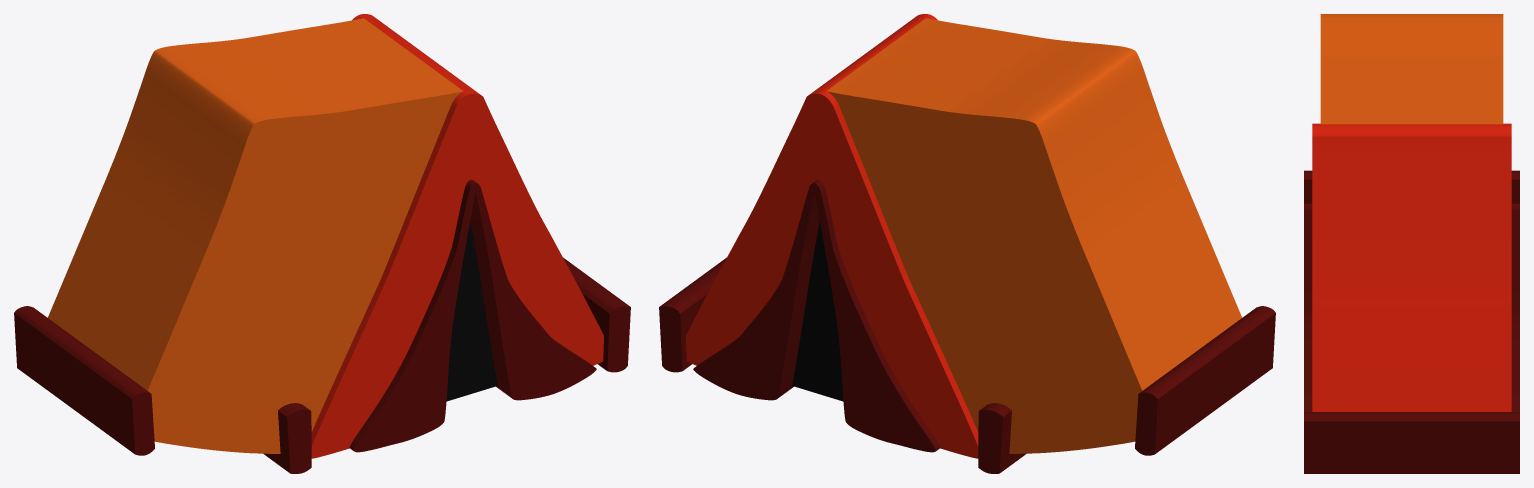
The picture shows the model from 3 angles, left to right: view 1: azimuth 30°, elevation 25°; view 2: azimuth 150°, elevation 25°; view 3: azimuth 270°, elevation 25°; orthographic projection. The views are drawn at different scales.
Parts seen in each view (by area): view 1: U+26FA_layer01_obj00, U+26FA_layer02_obj00, U+26FA_layer03_obj03, U+26FA_layer03_obj00, U+26FA_layer00_obj00, U+26FA_layer03_obj02, U+26FA_layer03_obj01; view 2: U+26FA_layer01_obj00, U+26FA_layer02_obj00, U+26FA_layer03_obj03, U+26FA_layer03_obj00, U+26FA_layer00_obj00, U+26FA_layer03_obj02, U+26FA_layer03_obj01; view 3: U+26FA_layer02_obj00, U+26FA_layer01_obj00, U+26FA_layer03_obj02, U+26FA_layer03_obj03, U+26FA_layer03_obj00.
Boxes of the visible parts, bbox=[...] form: U+26FA_layer01_obj00: bbox=[48, 18, 463, 453]; U+26FA_layer02_obj00: bbox=[311, 14, 603, 458]; U+26FA_layer03_obj03: bbox=[349, 179, 596, 452]; U+26FA_layer03_obj00: bbox=[14, 306, 154, 455]; U+26FA_layer00_obj00: bbox=[446, 221, 497, 401]; U+26FA_layer03_obj02: bbox=[563, 257, 630, 372]; U+26FA_layer03_obj01: bbox=[263, 403, 311, 473]; U+26FA_layer01_obj00: bbox=[826, 18, 1241, 453]; U+26FA_layer02_obj00: bbox=[686, 14, 978, 458]; U+26FA_layer03_obj03: bbox=[693, 179, 940, 452]; U+26FA_layer03_obj00: bbox=[1135, 306, 1275, 455]; U+26FA_layer00_obj00: bbox=[792, 221, 843, 401]; U+26FA_layer03_obj02: bbox=[659, 257, 726, 372]; U+26FA_layer03_obj01: bbox=[978, 403, 1026, 473]; U+26FA_layer02_obj00: bbox=[1312, 123, 1511, 411]; U+26FA_layer01_obj00: bbox=[1320, 14, 1503, 124]; U+26FA_layer03_obj02: bbox=[1304, 412, 1519, 473]; U+26FA_layer03_obj03: bbox=[1304, 203, 1519, 411]; U+26FA_layer03_obj00: bbox=[1304, 170, 1519, 203].
Size of the model in its own units: 0.3172 by 0.2147 by 0.13.
